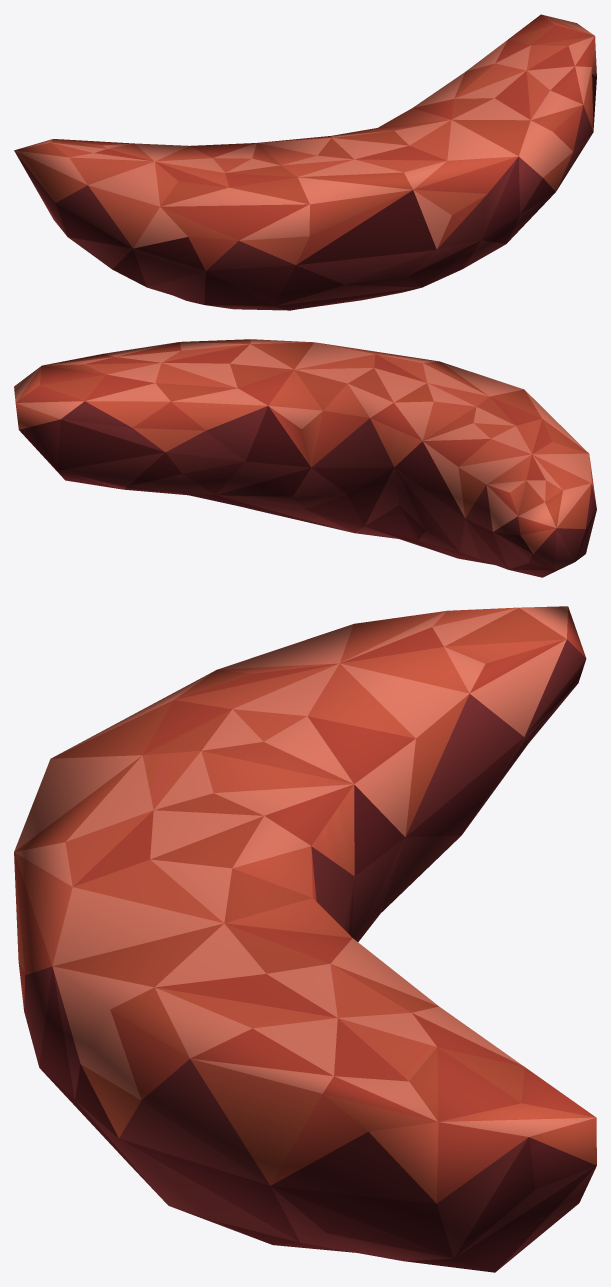
The model's file is Banana_Island_Low_Lvl_1.fbx.
3 renders of one model, top to bottom at view 1: azimuth 30°, elevation 25°; view 2: azimuth 150°, elevation 25°; view 3: azimuth 270°, elevation 25°, orthographic. The views are drawn at different scales.
Parts seen in each view (by area): view 1: Banana_Island_Low; view 2: Banana_Island_Low; view 3: Banana_Island_Low.
Boxes of the visible parts, x1,y1,x2,y2 form: Banana_Island_Low: (14,14,596,310); Banana_Island_Low: (14,339,596,577); Banana_Island_Low: (14,606,596,1272).
Bounding box in the file's own units: 1234 × 336 × 574.
